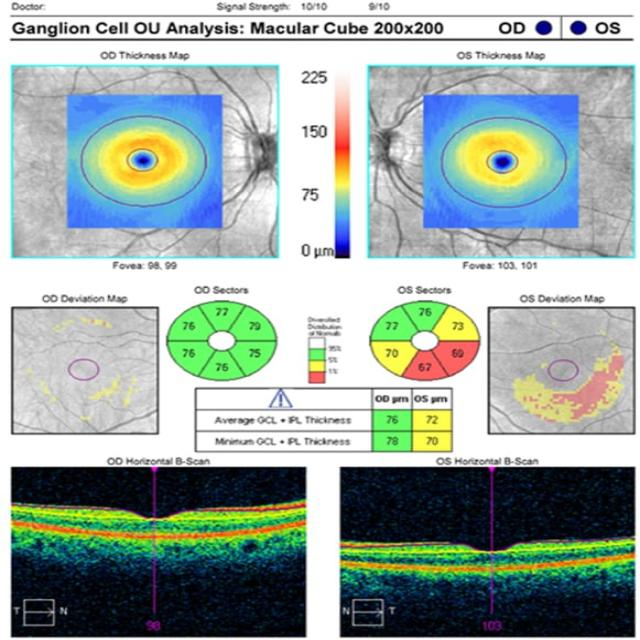average gcl and ipl thickness: (202, 408, 444, 429)
average gcl and ipl thickness-od: (377, 412, 410, 428)
average gcl and ipl thickness-os: (418, 412, 446, 428)
minimum gcl and ipl thickness: (204, 432, 444, 451)
minimum gcl and ipl thickness-od: (377, 432, 408, 450)
minimum gcl and ipl thickness-os: (419, 434, 444, 452)
